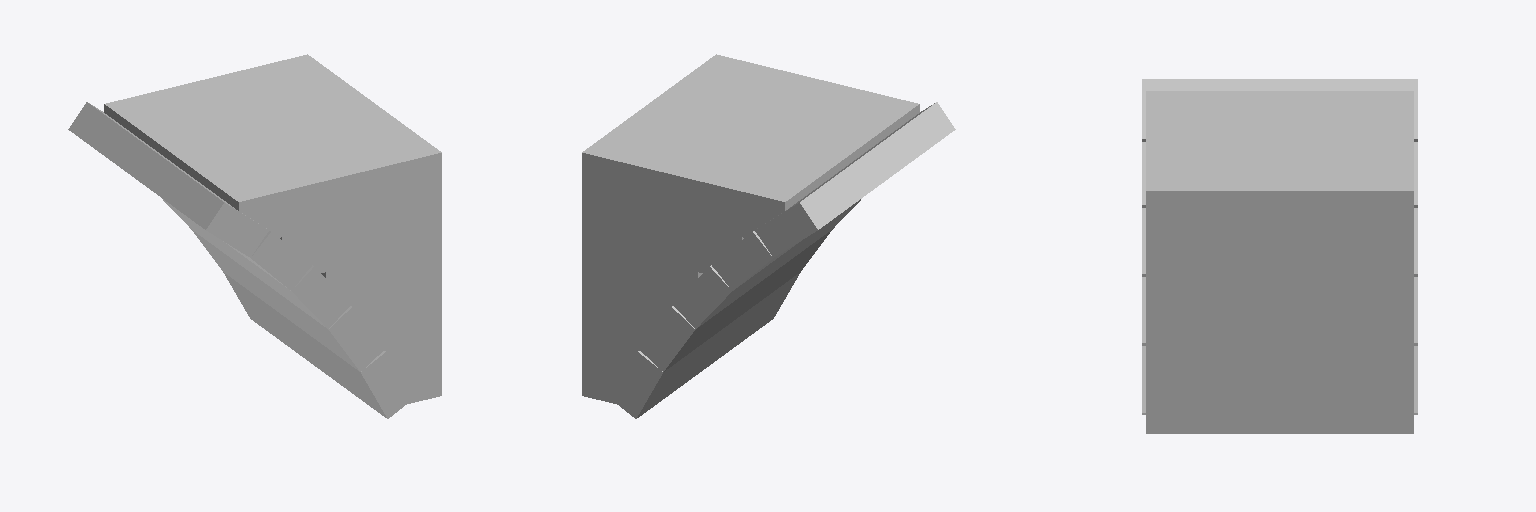
Rendered from sandstone_five_arch_mid.obj.
3 renders of one model, left to right at view 1: azimuth 30°, elevation 25°; view 2: azimuth 150°, elevation 25°; view 3: azimuth 270°, elevation 25°, orthographic.
Visible parts, largest first — view 1: cube.001, cube.037, cube.002, cube.038, cube.003, cube.034, cube.004, cube.035, cube.005, cube.036; view 2: cube.001, cube.037, cube.002, cube.038, cube.003, cube.034, cube.004, cube.035, cube.005, cube.036; view 3: cube.001, cube.005, cube.002, cube.004, cube.003, cube.037, cube.034, cube.035, cube.038, cube.036.
Part boxes in pixels (x1,y1,x2,y2): cube.001: (104,54,441,237); cube.037: (68,102,268,257); cube.002: (280,198,441,272); cube.038: (223,272,412,418); cube.003: (321,244,441,310); cube.034: (191,229,384,371); cube.004: (356,290,441,348); cube.035: (163,199,350,328); cube.005: (384,335,441,403); cube.036: (223,231,311,290); cube.001: (582,54,919,237); cube.037: (755,102,955,257); cube.002: (582,198,743,272); cube.038: (611,272,800,418); cube.003: (582,244,702,310); cube.034: (639,229,832,371); cube.004: (582,290,667,348); cube.035: (673,199,860,328); cube.005: (582,335,639,403); cube.036: (712,231,800,290); cube.001: (1146,91,1413,235); cube.005: (1146,373,1413,433); cube.002: (1146,236,1413,281); cube.004: (1146,327,1413,372); cube.003: (1146,282,1413,326); cube.037: (1142,79,1417,141); cube.034: (1142,277,1417,345); cube.035: (1142,208,1417,276); cube.038: (1142,346,1417,414); cube.036: (1142,142,1417,207).
Size of the model in its own units: 1.02 by 1.06 by 1.02.